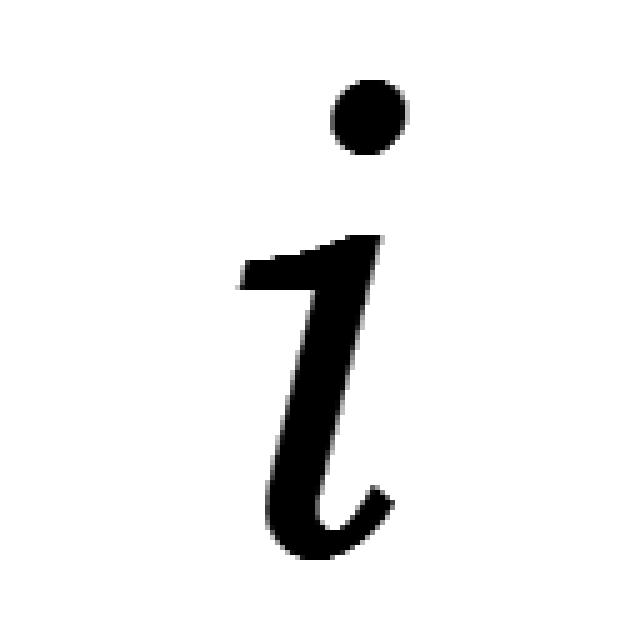I: (185, 40, 416, 562)
